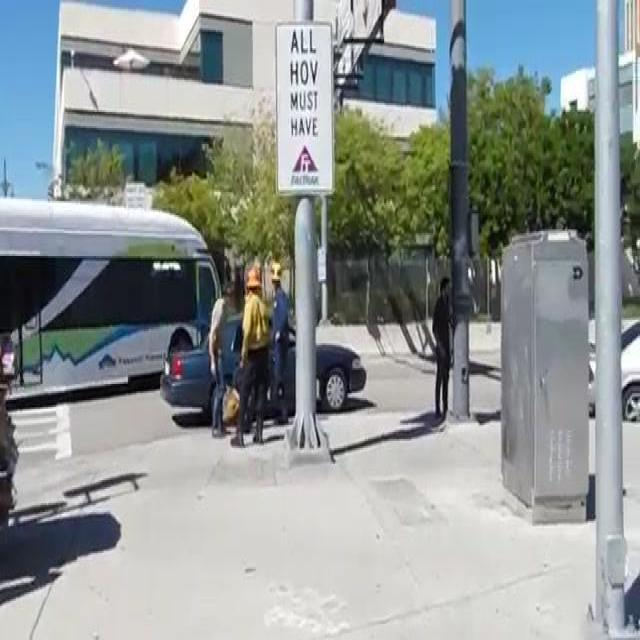motorcycle: (0, 190, 220, 390)
